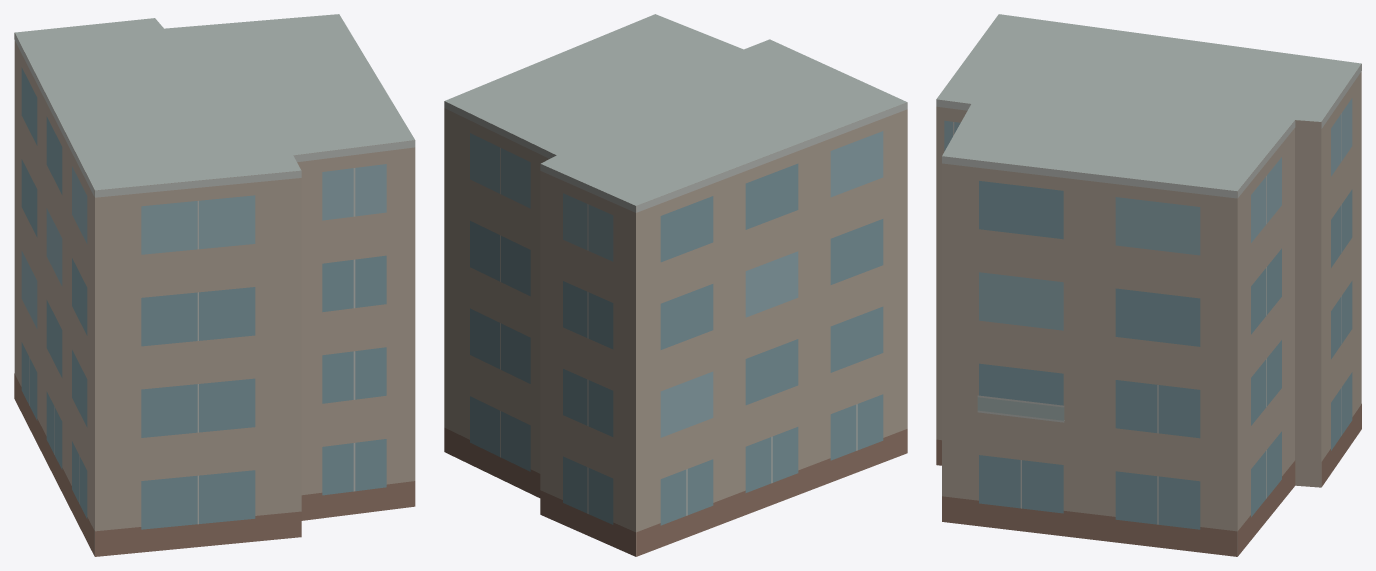
File: survey-upis-32828343.glb
3 views of the same model, side by side, from view 1: azimuth 30°, elevation 25°; view 2: azimuth 150°, elevation 25°; view 3: azimuth 270°, elevation 25° (orthographic). The views are drawn at different scales.
Parts seen in each view (by area): view 1: survey-upis-32828343.tmp; view 2: survey-upis-32828343.tmp; view 3: survey-upis-32828343.tmp.
Boxes of the visible parts, bbox=[...] form: survey-upis-32828343.tmp: bbox=[14, 14, 415, 556]; survey-upis-32828343.tmp: bbox=[444, 14, 907, 556]; survey-upis-32828343.tmp: bbox=[936, 14, 1361, 556].
Size of the model in its own units: 12.69 by 12.2 by 12.88.
